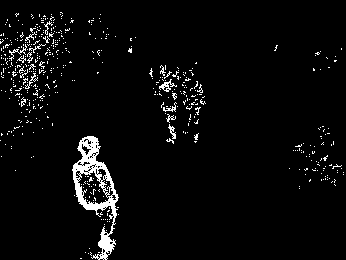person: (72, 132, 123, 252)
